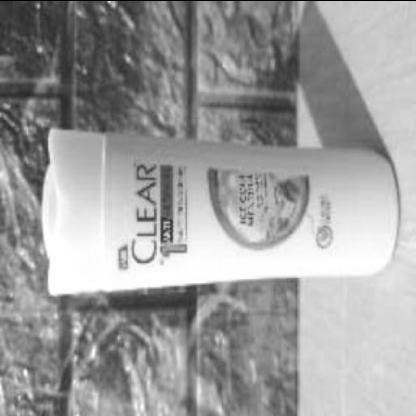objects: (44, 131, 396, 293)
